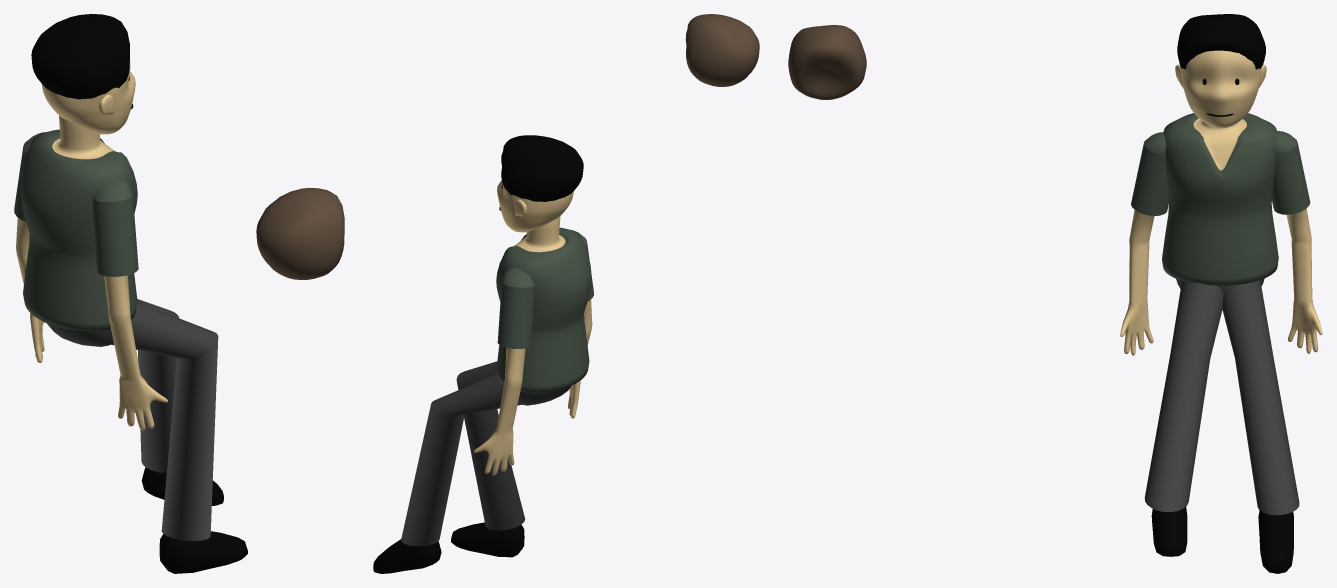
The picture shows the model from 3 angles, left to right: view 1: azimuth 30°, elevation 25°; view 2: azimuth 150°, elevation 25°; view 3: azimuth 270°, elevation 25°; orthographic projection. The views are drawn at different scales.
Parts seen in each view (by area): view 1: pCylinder12, pCylinder10, pCylinder15, pSphere12, pSphere13, pCylinder11, pCube16, pCube10, pCylinder16, pCube15, pCube14; view 2: pCylinder12, pCylinder11, pCylinder16, pSphere12, pSphere13, pCylinder10, pCube16, pCube10, pCube14, pCylinder15, pCube15; view 3: pCylinder12, pCylinder10, pCylinder11, pCylinder16, pCylinder15, pSphere13, pCube10, pSphere12, pCube14, pCube16.
Boxes of the visible parts, x1,y1,x2,y2 form: pCylinder12: (20, 115, 137, 331); pCylinder10: (111, 302, 218, 540); pCylinder15: (92, 177, 167, 430); pSphere12: (31, 14, 129, 99); pSphere13: (256, 188, 344, 279); pCylinder11: (137, 299, 178, 473); pCube16: (159, 531, 247, 573); pCube10: (41, 61, 135, 134); pCylinder16: (14, 132, 45, 363); pCube15: (47, 323, 113, 346); pCube14: (141, 467, 223, 505); pCylinder12: (496, 216, 591, 392); pCylinder11: (401, 374, 521, 546); pCylinder16: (474, 267, 535, 475); pSphere12: (501, 135, 583, 201); pSphere13: (685, 14, 759, 86); pCylinder10: (456, 361, 525, 530); pCube16: (451, 522, 524, 557); pCube10: (497, 180, 573, 232); pCube14: (373, 539, 441, 573); pCylinder15: (568, 229, 593, 418); pCube15: (518, 386, 571, 405); pCylinder12: (1162, 113, 1278, 285); pCylinder10: (1144, 281, 1223, 511); pCylinder11: (1222, 280, 1299, 515); pCylinder16: (1272, 131, 1322, 353); pCylinder15: (1120, 132, 1168, 355); pSphere13: (788, 25, 866, 99); pCube10: (1180, 50, 1261, 128); pSphere12: (1177, 14, 1265, 69); pCube14: (1258, 510, 1293, 573); pCube16: (1151, 507, 1187, 556).
Size of the model in its own units: 12.62 by 29.16 by 29.03.
